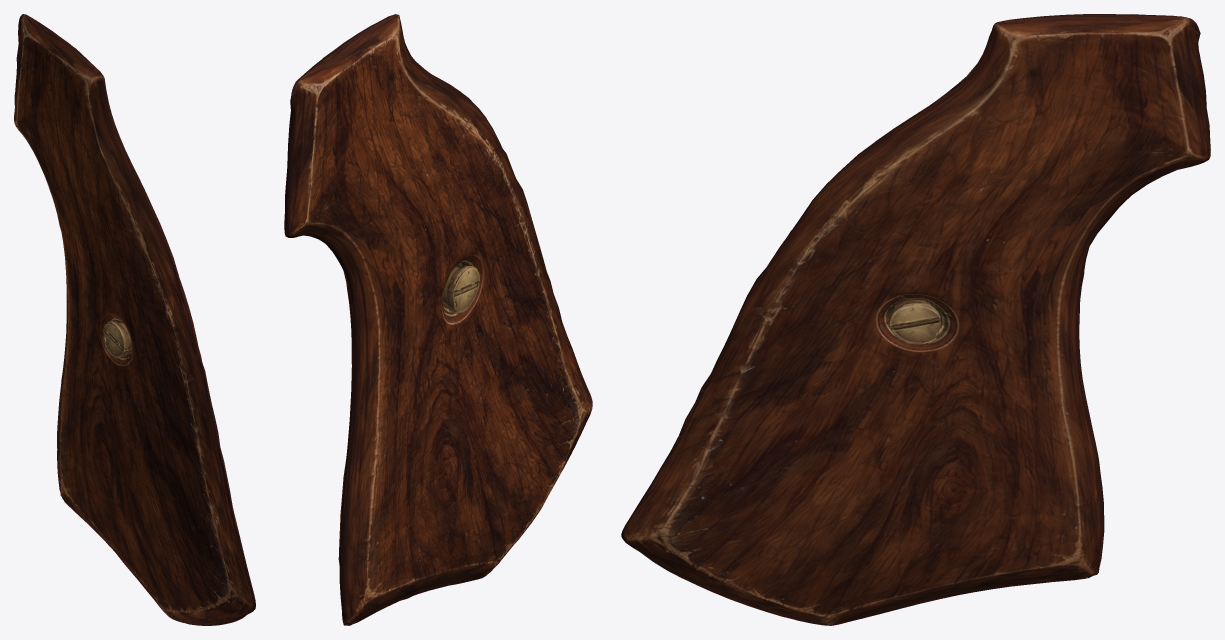
The model's file is rv_grip_r.glb.
3 renders of one model, left to right at view 1: azimuth 30°, elevation 25°; view 2: azimuth 150°, elevation 25°; view 3: azimuth 270°, elevation 25°, orthographic. The views are drawn at different scales.
Parts seen in each view (by area): view 1: Mesh_0; view 2: Mesh_0; view 3: Mesh_0.
Part boxes in pixels (x1,y1,x2,y2): Mesh_0: (14,14,255,625); Mesh_0: (284,14,592,625); Mesh_0: (621,14,1210,625).
Bounding box in the file's own units: 0.00628 × 0.0679 × 0.0593.
1 material, 1 textured.
